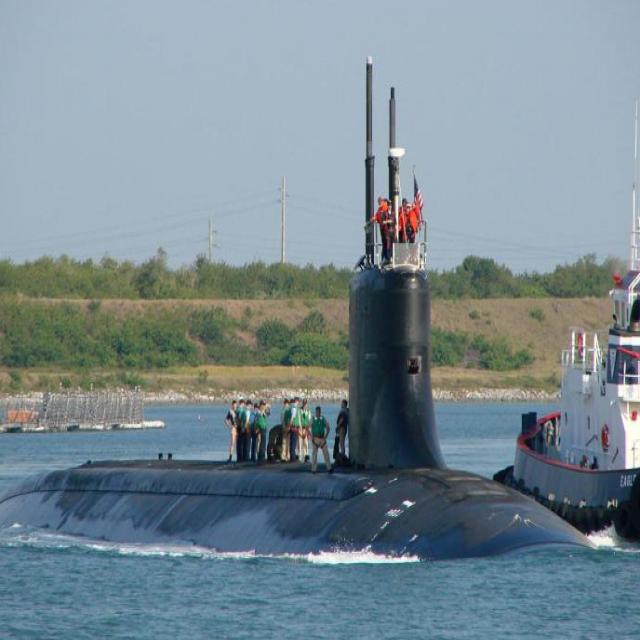submarine: (1, 44, 623, 534)
